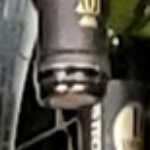bottle: (25, 37, 123, 124)
